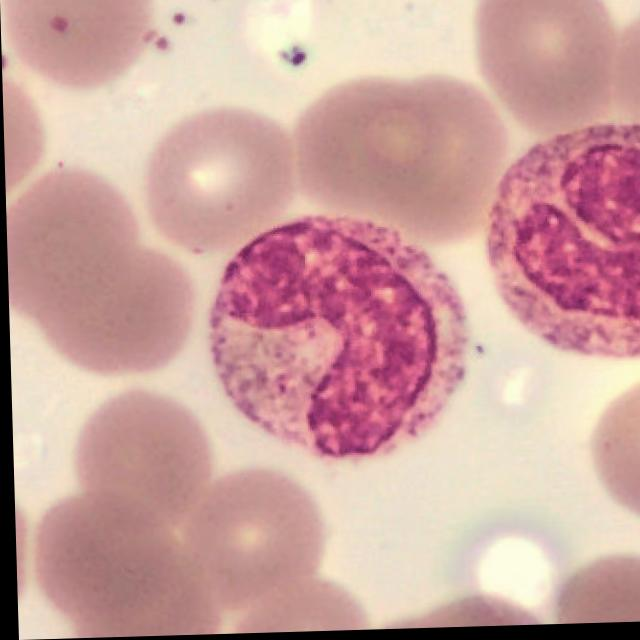Bastonete: (205, 216, 470, 461), (483, 124, 640, 361)
